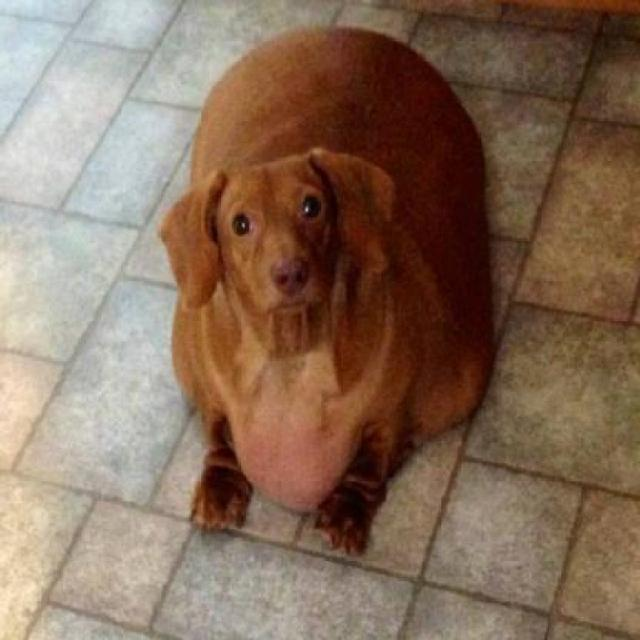Dog: (152, 17, 498, 568)
